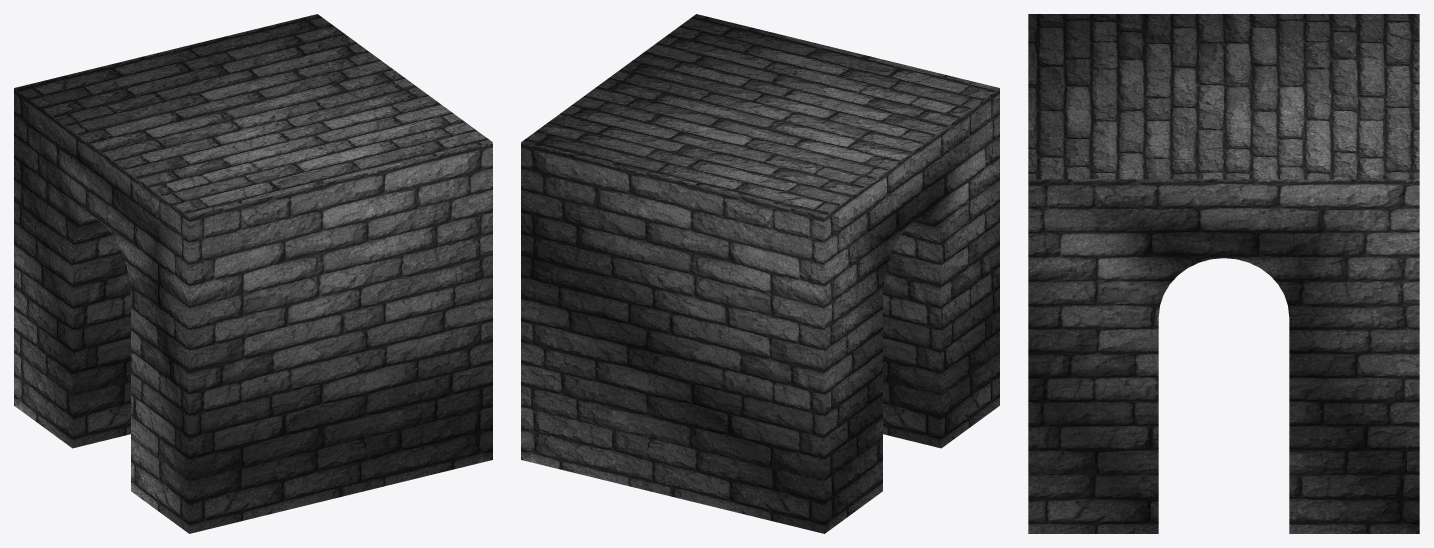
Rendered from stone block walk way.glb.
3 renders of one model, left to right at view 1: azimuth 30°, elevation 25°; view 2: azimuth 150°, elevation 25°; view 3: azimuth 270°, elevation 25°, orthographic. The views are drawn at different scales.
Parts seen in each view (by area): view 1: Circular Arch Hall Thin; view 2: Circular Arch Hall Thin; view 3: Circular Arch Hall Thin.
Part boxes in pixels (<box>): Circular Arch Hall Thin: <box>14,14,492,533</box>; Circular Arch Hall Thin: <box>521,14,999,533</box>; Circular Arch Hall Thin: <box>1028,14,1419,533</box>.
Bounding box in the file's own units: 2.74 × 2.74 × 2.74.
1 material, 1 textured.
